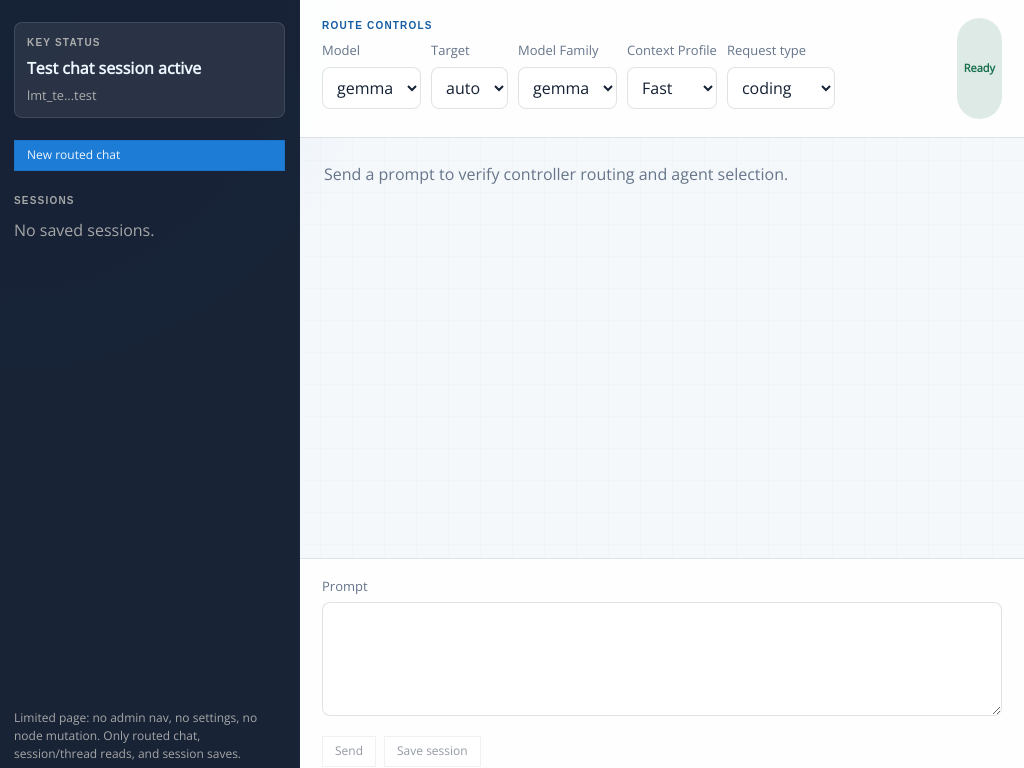
Test case: renders model family and context profile selectors from catalog and sends them
This screenshot has width=1024, height=768.
Expected: the dropdown labelled "Model Family" is shown, [518, 66, 617, 108]
Select "Long" in the dropdown labelled "Context Profile": (672, 88) [627, 66, 717, 108]
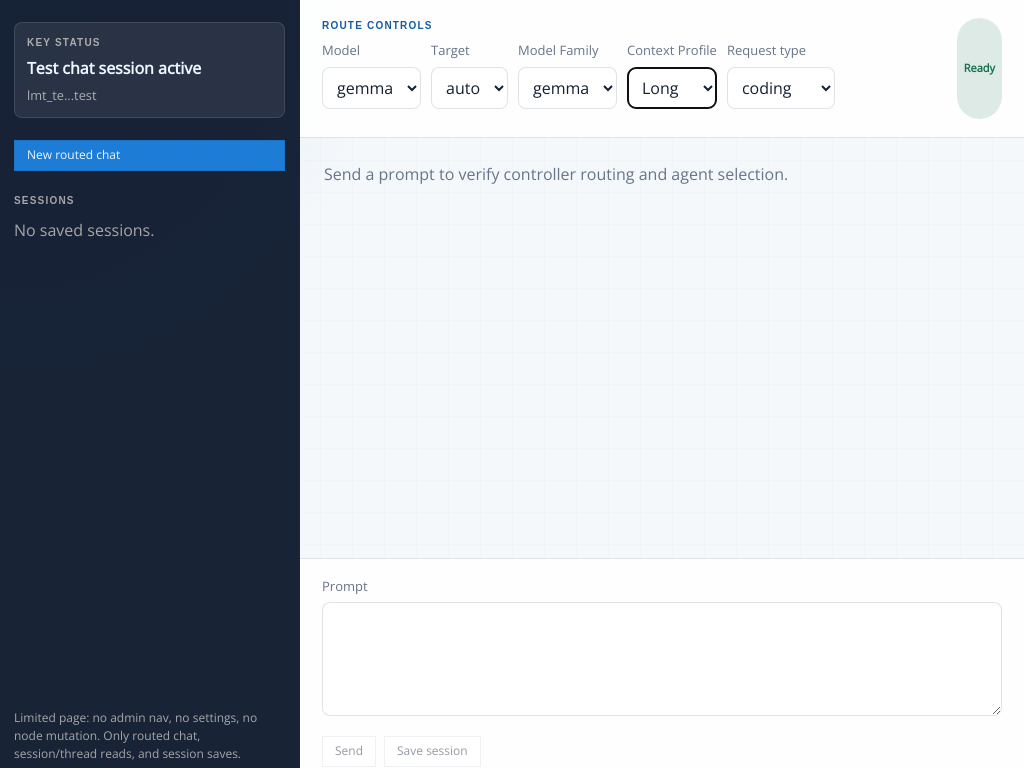
In the text box labelled "Prompt": (662, 659) [322, 602, 1002, 716], type "Use profile"
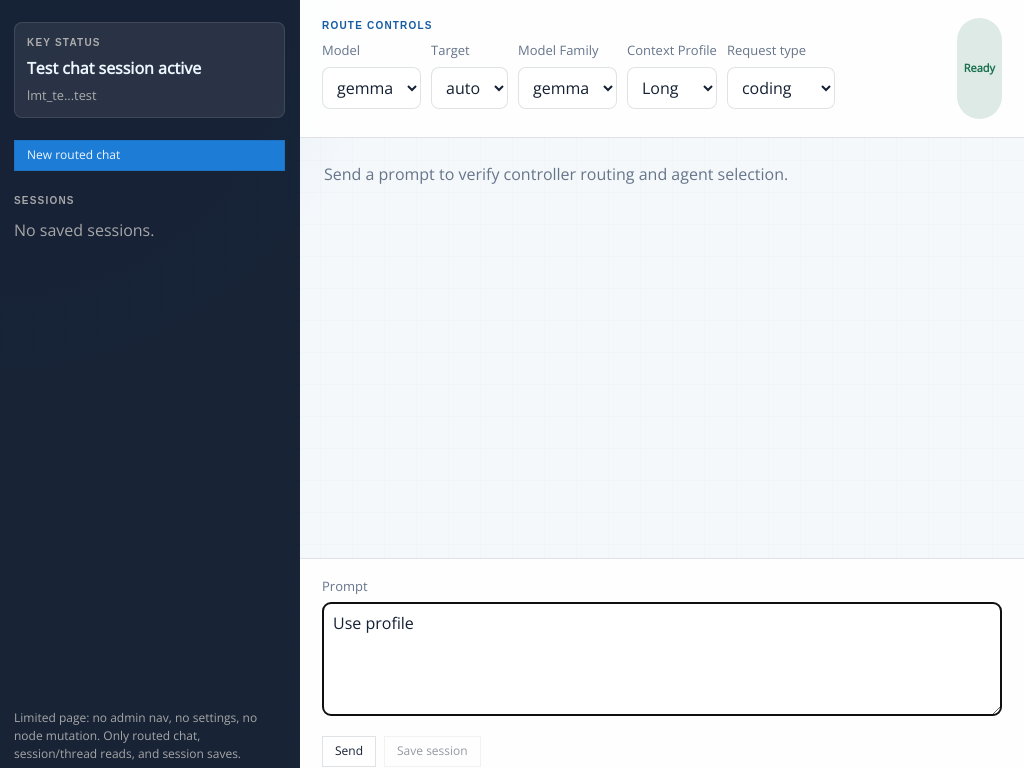
Click the button "Send": (349, 751) [322, 736, 376, 767]
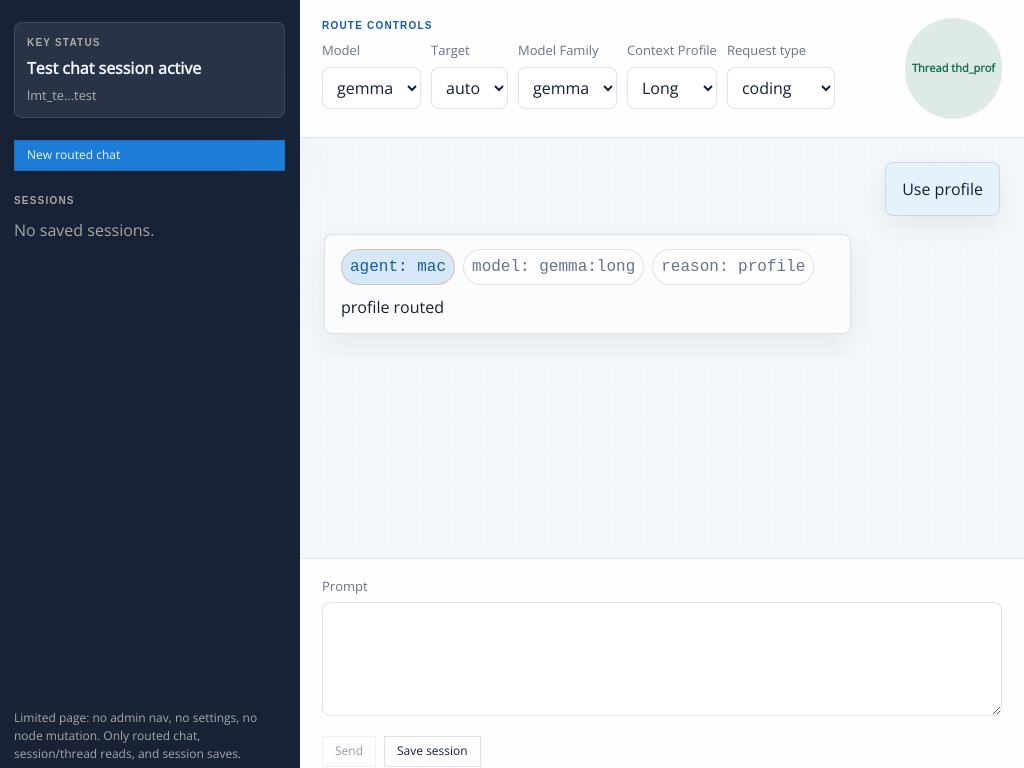
Now the text "profile routed" is shown, box [341, 296, 444, 318]
